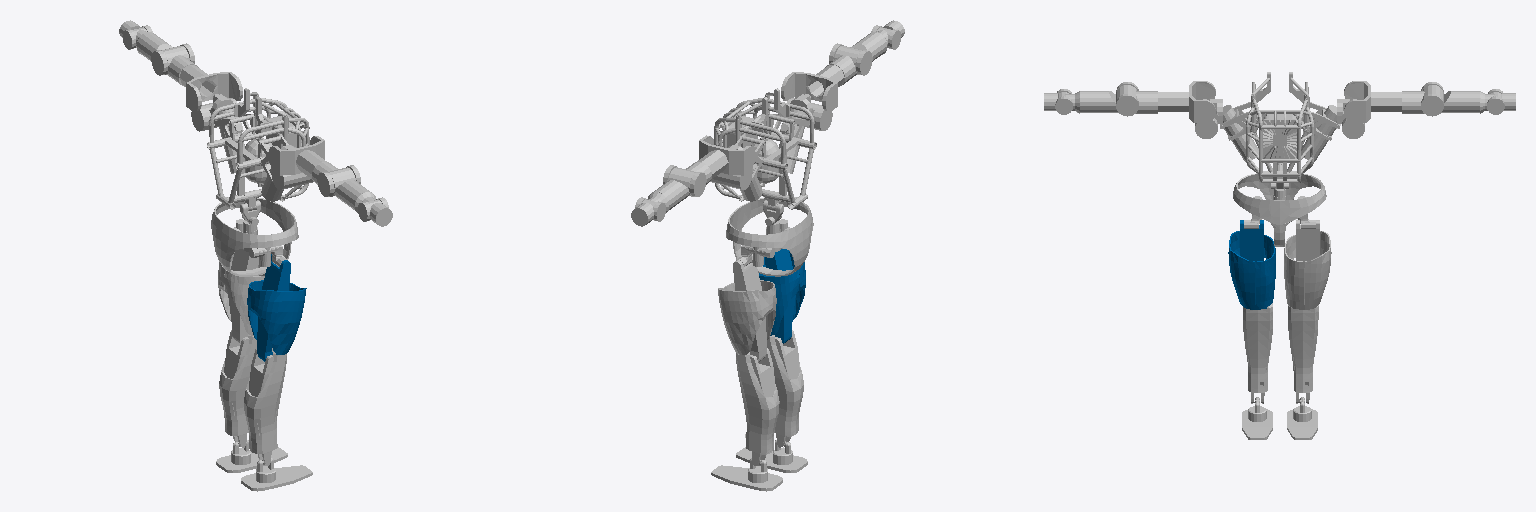
--- What the picture shows (computed from the rendered views, not written in the file) ---
Views: 3 orthographic renders of the robot side by side, from view 1: azimuth 30°, elevation 25°; view 2: azimuth 150°, elevation 25°; view 3: azimuth 270°, elevation 25°.
Robot: drc_robot — 40 links, 39 joints (28 revolute, 1 continuous, 10 fixed); root link pelvis; default pose: all joints at 0.
Links seen in each view (by area): view 1: utorso, r_uleg, r_lleg, pelvis, l_lleg, l_uleg, l_scap, r_scap, r_foot, l_larm, l_foot, r_larm (+5 smaller); view 2: utorso, l_uleg, l_lleg, pelvis, r_lleg, r_uleg, r_scap, l_scap, l_foot, r_larm, r_foot, l_larm (+5 smaller); view 3: utorso, l_uleg, r_uleg, pelvis, r_lleg, l_lleg, l_scap, r_scap, l_larm, r_larm, r_foot, l_foot (+6 smaller).
Link boxes in pixels (x1,y1,x2,y2): utorso: (207, 88, 309, 210); r_uleg: (247, 254, 306, 361); r_lleg: (244, 348, 286, 465); pelvis: (211, 198, 298, 276); l_lleg: (219, 330, 256, 447); l_uleg: (218, 249, 264, 343); l_scap: (179, 65, 242, 111); r_scap: (268, 136, 326, 179); r_foot: (241, 458, 312, 491); l_larm: (136, 32, 194, 75); l_foot: (216, 440, 287, 472); r_larm: (317, 165, 371, 209); utorso: (714, 88, 816, 210); l_uleg: (718, 254, 776, 361); l_lleg: (736, 348, 779, 465); pelvis: (726, 197, 813, 276); r_lleg: (767, 330, 803, 447); r_uleg: (759, 249, 805, 343); r_scap: (781, 65, 844, 111); l_scap: (697, 135, 755, 179); l_foot: (711, 458, 782, 491); r_larm: (829, 32, 886, 75); r_foot: (736, 440, 807, 472); l_larm: (652, 165, 706, 209); utorso: (1220, 72, 1340, 182); l_uleg: (1284, 220, 1331, 309); r_uleg: (1228, 220, 1275, 309); pelvis: (1233, 173, 1326, 246); r_lleg: (1243, 303, 1272, 403); l_lleg: (1288, 305, 1318, 403); l_scap: (1344, 81, 1401, 122); r_scap: (1158, 81, 1215, 122); l_larm: (1421, 82, 1479, 116); r_larm: (1080, 82, 1138, 116); r_foot: (1242, 397, 1272, 439); l_foot: (1287, 397, 1317, 439).
Bounding box of the posed robot: 0.3285 × 1.86 × 1.52 m (x, y, z).
28 mesh visuals loaded from 30 distinct referenced files (28 Collada DAE); not drawn: 2 (reference not matched to a file when rendering).

The robot description file, URDF, robot "drc_robot":
<?xml version="1.0" ?>
<!-- =================================================================================== -->
<!-- |    This document was autogenerated by xacro from robots/drc_robot.model.xacro   | -->
<!-- |    EDITING THIS FILE BY HAND IS NOT RECOMMENDED                                 | -->
<!-- =================================================================================== -->
<robot name="drc_robot" xmlns:controller="http://playerstage.sourceforge.net/gazebo/xmlschema/#controller" xmlns:interface="http://playerstage.sourceforge.net/gazebo/xmlschema/#interface" xmlns:sensor="http://playerstage.sourceforge.net/gazebo/xmlschema/#sensor" xmlns:xacro="http://www.ros.org/wiki/xacro">
  <link name="head">
    <inertial>
      <origin xyz="-0.075493 3.3383E-05 0.02774" rpy="0 0 0" />
      <mass value="1.4199" />
      <inertia
        iyy="0.0041178"
        ixy="-1.5797E-06"
        iyz="-6.8415E-07"
        ixx="0.0039688"
        ixz="-0.00089293"
        izz="0.0035243" />
    </inertial>
    <visual>
      <origin xyz="-0.0446 0 0.0880" rpy="0 0 1.570795" />
      <geometry>
        <mesh filename="package://multisense_sl/meshes/base_link.STL" />
      </geometry>
      <material name="">
        <color rgba="0.9098 0.44314 0.031373 1" />
      </material>
    </visual>
    <collision>
      <origin xyz="-0.0446 0 0.0880" rpy="0 0 1.570795" />
      <geometry>
        <mesh filename="package://multisense_sl/meshes/base_link.STL" />
      </geometry>
    </collision>
  </link>
  <link name="hokuyo_link">
    <inertial>
      <origin xyz="0.012428 0.0004084 -0.0041835" rpy="0 0 0" />
      <mass value="0.057664" />
      <inertia
        iyy="4.2412E-05"
        ixy="4.9927E-08"
        iyz="-9.8165E-09"
        ixx="3.7174E-05"
        ixz="1.1015E-05"
        izz="4.167E-05" />
    </inertial>
    <visual>
      <origin xyz="0 0 0" rpy="1.5707963267949 0 1.5707963267949" />
      <geometry>
        <mesh filename="package://multisense_sl/meshes/hokuyo_link.STL" />
      </geometry>
      <material name="">
        <color rgba="0.72941 0.35686 0.023529 1" />
      </material>
    </visual>
    <collision>
      <origin xyz="0 0 0" rpy="1.5707963267949 0 1.5707963267949" />
      <geometry>
        <mesh filename="package://multisense_sl/meshes/hokuyo_link.STL" />
      </geometry>
    </collision>
  </link>
  <joint name="hokuyo_joint" type="continuous">
    <origin xyz="-0.0446 0 0.0880" rpy="0 0 0" />
    <parent link="head" />
    <child link="hokuyo_link" />
    <axis xyz="1 0 0" />
    <dynamics damping="0.01" friction="0"/>
  </joint>
  <link name="l_clav">
    <inertial>
      <mass value="2.369"/>
      <origin rpy="0 -0 0" xyz="0.014 0.058 0.029"/>
      <inertia ixx="0.004" ixy="0.001" ixz="0" iyy="0.006" iyz="0" izz="0.007"/>
    </inertial>
    <visual>
      <origin rpy="0 -0 0" xyz="0 0 0"/>
      <geometry>
        <mesh filename="package://drc_robot/meshes/l_clav.dae" scale="1 1 1"/>
      </geometry>
    </visual>
    <collision>
      <origin rpy="0 -0 0" xyz="0 0 0"/>
      <geometry>
        <mesh filename="package://drc_robot/meshes/l_clav.stl" scale="1 1 1"/>
      </geometry>
    </collision>
  </link>
  <link name="l_farm">
    <inertial>
      <mass value="0.981"/>
      <origin rpy="0 -0 0" xyz="0 0.041 0"/>
      <inertia ixx="0.003" ixy="0" ixz="0" iyy="0.001" iyz="0" izz="0.003"/>
    </inertial>
    <visual>
      <origin rpy="0 -0 0" xyz="0 0 0"/>
      <geometry>
        <mesh filename="package://drc_robot/meshes/l_farm.dae" scale="1 1 1"/>
      </geometry>
    </visual>
    <collision>
      <origin rpy="0 -0 0" xyz="0 0 0"/>
      <geometry>
        <mesh filename="package://drc_robot/meshes/l_farm.stl" scale="1 1 1"/>
      </geometry>
    </collision>
  </link>
  <link name="l_foot">
    <inertial>
      <mass value="1.634"/>
      <origin rpy="0 -0 0" xyz="0.027 0 -0.067"/>
      <inertia ixx="0.002" ixy="0" ixz="0" iyy="0.007" iyz="0" izz="0.008"/>
    </inertial>
    <visual>
      <origin rpy="0 -0 0" xyz="0 0 0"/>
      <geometry>
        <mesh filename="package://drc_robot/meshes/l_foot.dae" scale="1 1 1"/>
      </geometry>
      <!--
      <origin xyz="0.048 0 -0.076119" rpy="0 0 0"/>
      <geometry>
        <box size="0.26 0.124887 0.01"/>
      </geometry>
      -->
    </visual>
    <collision>
      <origin rpy="0 -0 0" xyz="0 0 0"/>
      <geometry>
        <mesh filename="package://drc_robot/meshes/l_foot.stl" scale="1 1 1"/>
      </geometry>
      <!--
      <origin xyz="0.048 0 -0.076119" rpy="0 0 0"/>
      <geometry>
        <box size="0.26 0.124887 0.01"/>
      </geometry>
      -->
    </collision>
  </link>
  <link name="l_hand">
    <inertial>
      <mass value="2.263"/>
      <origin rpy="0 -0 0" xyz="0 0.093 0"/>
      <inertia ixx="0.01" ixy="0" ixz="0" iyy="0.002" iyz="0" izz="0.01"/>
    </inertial>
    <visual>
      <origin rpy="0 -0 0" xyz="0 0 0"/>
      <geometry>
        <mesh filename="package://drc_robot/meshes/l_hand.dae" scale="1 1 1"/>
      </geometry>
    </visual>
    <collision>
      <origin rpy="0 -0 0" xyz="0 0 0"/>
      <geometry>
        <mesh filename="package://drc_robot/meshes/l_hand.stl" scale="1 1 1"/>
      </geometry>
    </collision>
  </link>
  <link name="l_larm">
    <inertial>
      <mass value="2.148"/>
      <origin rpy="0 -0 0" xyz="-0.003 0.099 -0.014"/>
      <inertia ixx="0.005" ixy="0" ixz="0" iyy="0.003" iyz="0" izz="0.006"/>
    </inertial>
    <visual>
      <origin rpy="0 -0 0" xyz="0 0 0"/>
      <geometry>
        <mesh filename="package://drc_robot/meshes/l_larm.dae" scale="1 1 1"/>
      </geometry>
    </visual>
    <collision>
      <origin rpy="0 -0 0" xyz="0 0 0"/>
      <geometry>
        <mesh filename="package://drc_robot/meshes/l_larm.stl" scale="1 1 1"/>
      </geometry>
    </collision>
  </link>
  <link name="l_lglut">
    <inertial>
      <mass value="0.69"/>
      <origin rpy="0 -0 0" xyz="0.0133341 0.0170484 -0.0312052"/>
      <inertia ixx="0.000691326" ixy="-2.24344e-05" ixz="2.50508e-06" iyy="0.00126856" iyz="0.000137862" izz="0.00106487"/>
    </inertial>
    <visual>
      <origin rpy="0 -0 0" xyz="0 0 0"/>
      <geometry>
        <mesh filename="package://drc_robot/meshes/l_lglut.dae" scale="1 1 1"/>
      </geometry>
    </visual>
    <collision>
      <origin rpy="0 -0 0" xyz="0 0 0"/>
      <geometry>
        <mesh filename="package://drc_robot/meshes/l_lglut.stl" scale="1 1 1"/>
      </geometry>
    </collision>
  </link>
  <link name="l_lleg">
    <inertial>
      <mass value="4.367"/>
      <origin rpy="0 -0 0" xyz="0.001 0 -0.187"/>
      <inertia ixx="0.077" ixy="0" ixz="-0.003" iyy="0.076" iyz="0" izz="0.01"/>
    </inertial>
    <visual>
      <origin rpy="0 -0 0" xyz="0 0 0"/>
      <geometry>
        <mesh filename="package://drc_robot/meshes/l_lleg.dae" scale="1 1 1"/>
      </geometry>
    </visual>
    <collision>
      <origin rpy="0 -0 0" xyz="0 0 0"/>
      <geometry>
        <mesh filename="package://drc_robot/meshes/l_lleg.stl" scale="1 1 1"/>
      </geometry>
    </collision>
  </link>
  <link name="l_scap">
    <inertial>
      <mass value="2.707"/>
      <origin rpy="0 -0 0" xyz="-0.002 0.108 0"/>
      <inertia ixx="0.01" ixy="0" ixz="0" iyy="0.005" iyz="0" izz="0.013"/>
    </inertial>
    <visual>
      <origin rpy="0 -0 0" xyz="0 0 0"/>
      <geometry>
        <mesh filename="package://drc_robot/meshes/l_scap.dae" scale="1 1 1"/>
      </geometry>
    </visual>
    <collision>
      <origin rpy="0 -0 0" xyz="0 0 0"/>
      <geometry>
        <mesh filename="package://drc_robot/meshes/l_scap.stl" scale="1 1 1"/>
      </geometry>
    </collision>
  </link>
  <link name="l_talus">
    <inertial>
      <mass value="0.1"/>
      <origin rpy="0 -0 0" xyz="0 0 0"/>
      <inertia ixx="1.01674e-05" ixy="0" ixz="0" iyy="8.42775e-06" iyz="0" izz="1.30101e-05"/>
    </inertial>
    <visual>
      <origin rpy="0 -0 0" xyz="0 0 0"/>
      <geometry>
        <mesh filename="package://drc_robot/meshes/l_talus.dae" scale="1 1 1"/>
      </geometry>
    </visual>
    <collision>
      <origin rpy="0 -0 0" xyz="0 0 0"/>
      <geometry>
        <mesh filename="package://drc_robot/meshes/l_talus.stl" scale="1 1 1"/>
      </geometry>
    </collision>
  </link>
  <link name="l_uarm">
    <inertial>
      <mass value="1.881"/>
      <origin rpy="0 -0 0" xyz="0.007 0.114 0.008"/>
      <inertia ixx="0.002" ixy="0" ixz="0" iyy="0.003" iyz="0" izz="0.003"/>
    </inertial>
    <visual>
      <origin rpy="0 -0 0" xyz="0 0 0"/>
      <geometry>
        <mesh filename="package://drc_robot/meshes/l_uarm.dae" scale="1 1 1"/>
      </geometry>
    </visual>
    <collision>
      <origin rpy="0 -0 0" xyz="0 0 0"/>
      <geometry>
        <mesh filename="package://drc_robot/meshes/l_uarm.stl" scale="1 1 1"/>
      </geometry>
    </collision>
  </link>
  <link name="l_uglut">
    <inertial>
      <mass value="0.5166"/>
      <origin rpy="0 -0 0" xyz="0.00529262 -0.00344732 0.00313046"/>
      <inertia ixx="0.00074276" ixy="-3.79607e-08" ixz="-2.79549e-05" iyy="0.000688179" iyz="-3.2735e-08" izz="0.00041242"/>
    </inertial>
    <visual>
      <origin rpy="0 -0 0" xyz="0 0 0"/>
      <geometry>
        <mesh filename="package://drc_robot/meshes/l_uglut.dae" scale="1 1 1"/>
      </geometry>
    </visual>
    <collision>
      <origin rpy="0 -0 0" xyz="0 0 0"/>
      <geometry>
        <mesh filename="package://drc_robot/meshes/l_uglut.stl" scale="1 1 1"/>
      </geometry>
    </collision>
  </link>
  <link name="l_uleg">
    <inertial>
      <mass value="7.34"/>
      <origin rpy="0 -0 0" xyz="0 0 -0.21"/>
      <inertia ixx="0.09" ixy="0" ixz="0" iyy="0.09" iyz="0" izz="0.02"/>
    </inertial>
    <visual>
      <origin rpy="0 -0 0" xyz="0 0 0"/>
      <geometry>
        <mesh filename="package://drc_robot/meshes/l_uleg.dae" scale="1 1 1"/>
      </geometry>
    </visual>
    <collision>
      <origin rpy="0 -0 0" xyz="0 0 0"/>
      <geometry>
        <mesh filename="package://drc_robot/meshes/l_uleg.stl" scale="1 1 1"/>
      </geometry>
    </collision>
  </link>
  <link name="ltorso">
    <inertial>
      <mass value="1.92"/>
      <origin rpy="0 -0 0" xyz="-0.0112984 -3.15366e-06 0.0746835"/>
      <inertia ixx="0.0039092" ixy="-5.04491e-08" ixz="-0.000342157" iyy="0.00341694" iyz="4.87119e-07" izz="0.00174492"/>
    </inertial>
    <visual>
      <origin rpy="0 -0 0" xyz="0 0 0"/>
      <geometry>
        <mesh filename="package://drc_robot/meshes/ltorso.dae" scale="1 1 1"/>
      </geometry>
    </visual>
    <collision>
      <origin rpy="0 -0 0" xyz="0 0 0"/>
      <geometry>
        <mesh filename="package://drc_robot/meshes/ltorso.stl" scale="1 1 1"/>
      </geometry>
    </collision>
  </link>
  <link name="mtorso">
    <inertial>
      <mass value="0.55"/>
      <origin rpy="0 -0 0" xyz="-0.00816266 -0.0131245 0.0305974"/>
      <inertia ixx="0.000454181" ixy="-6.10764e-05" ixz="3.94009e-05" iyy="0.000483282" iyz="5.27463e-05" izz="0.000444215"/>
    </inertial>
    <visual>
      <origin rpy="0 -0 0" xyz="0 0 0"/>
      <geometry>
        <mesh filename="package://drc_robot/meshes/mtorso.dae" scale="1 1 1"/>
      </geometry>
    </visual>
    <collision>
      <origin rpy="0 -0 0" xyz="0 0 0"/>
      <geometry>
        <mesh filename="package://drc_robot/meshes/mtorso.stl" scale="1 1 1"/>
      </geometry>
    </collision>
  </link>
  <link name="pelvis">
    <inertial>
      <mass value="14.2529"/>
      <origin rpy="0 -0 0" xyz="0.0111 0 0.0271"/>
      <inertia ixx="0.1244" ixy="0.0008" ixz="-0.0007" iyy="0.0958" iyz="-0.0005" izz="0.1167"/>
    </inertial>
    <visual>
      <origin rpy="0 -0 0" xyz="0 0 0"/>
      <geometry>
        <mesh filename="package://drc_robot/meshes/pelvis.dae" scale="1 1 1"/>
      </geometry>
    </visual>
    <collision>
      <origin rpy="0 -0 0" xyz="0 0 0"/>
      <geometry>
        <mesh filename="package://drc_robot/meshes/pelvis.stl" scale="1 1 1"/>
      </geometry>
    </collision>
  </link>
  <link name="r_clav">
    <inertial>
      <mass value="2.369"/>
      <origin rpy="0 -0 0" xyz="0.014 -0.058 0.029"/>
      <inertia ixx="0.004" ixy="-0.001" ixz="0" iyy="0.006" iyz="0" izz="0.007"/>
    </inertial>
    <visual>
      <origin rpy="0 -0 0" xyz="0 0 0"/>
      <geometry>
        <mesh filename="package://drc_robot/meshes/r_clav.dae" scale="1 1 1"/>
      </geometry>
    </visual>
    <collision>
      <origin rpy="0 -0 0" xyz="0 0 0"/>
      <geometry>
        <mesh filename="package://drc_robot/meshes/r_clav.stl" scale="1 1 1"/>
      </geometry>
    </collision>
  </link>
  <link name="r_farm">
    <inertial>
      <mass value="0.981"/>
      <origin rpy="0 -0 0" xyz="0 -0.041 0"/>
      <inertia ixx="0.003" ixy="0" ixz="0" iyy="0.001" iyz="0" izz="0.003"/>
    </inertial>
    <visual>
      <origin rpy="0 -0 0" xyz="0 0 0"/>
      <geometry>
        <mesh filename="package://drc_robot/meshes/r_farm.dae" scale="1 1 1"/>
      </geometry>
    </visual>
    <collision>
      <origin rpy="0 -0 0" xyz="0 0 0"/>
      <geometry>
        <mesh filename="package://drc_robot/meshes/r_farm.stl" scale="1 1 1"/>
      </geometry>
    </collision>
  </link>
  <link name="r_foot">
    <inertial>
      <mass value="1.634"/>
      <origin rpy="0 -0 0" xyz="0.027 0 -0.067"/>
      <inertia ixx="0.002" ixy="0" ixz="0" iyy="0.007" iyz="0" izz="0.008"/>
    </inertial>
    <visual>
      <origin rpy="0 -0 0" xyz="0 0 0"/>
      <geometry>
        <mesh filename="package://drc_robot/meshes/r_foot.dae" scale="1 1 1"/>
      </geometry>
      <!--
      <origin xyz="0.048 0 -0.076119" rpy="0 0 0"/>
      <geometry>
        <box size="0.26 0.124887 0.01"/>
      </geometry>
      -->
    </visual>
    <collision>
      <origin rpy="0 -0 0" xyz="0 0 0"/>
      <geometry>
        <mesh filename="package://drc_robot/meshes/r_foot.stl" scale="1 1 1"/>
      </geometry>
      <!--
      <origin xyz="0.048 0 -0.076119" rpy="0 0 0"/>
      <geometry>
        <box size="0.26 0.124887 0.01"/>
      </geometry>
      -->
    </collision>
  </link>
  <link name="r_hand">
    <inertial>
      <mass value="2.263"/>
      <origin rpy="0 -0 0" xyz="0 -0.093 0"/>
      <inertia ixx="0.01" ixy="0" ixz="0" iyy="0.002" iyz="0" izz="0.01"/>
    </inertial>
    <visual>
      <origin rpy="0 -0 0" xyz="0 0 0"/>
      <geometry>
        <mesh filename="package://drc_robot/meshes/r_hand.dae" scale="1 1 1"/>
      </geometry>
    </visual>
    <collision>
      <origin rpy="0 -0 0" xyz="0 0 0"/>
      <geometry>
        <mesh filename="package://drc_robot/meshes/r_hand.stl" scale="1 1 1"/>
      </geometry>
    </collision>
  </link>
  <link name="r_larm">
    <inertial>
      <mass value="2.148"/>
      <origin rpy="0 -0 0" xyz="-0.003 -0.099 -0.014"/>
      <inertia ixx="0.005" ixy="0" ixz="0" iyy="0.003" iyz="0" izz="0.006"/>
    </inertial>
    <visual>
      <origin rpy="0 -0 0" xyz="0 0 0"/>
      <geometry>
        <mesh filename="package://drc_robot/meshes/r_larm.dae" scale="1 1 1"/>
      </geometry>
    </visual>
    <collision>
      <origin rpy="0 -0 0" xyz="0 0 0"/>
      <geometry>
        <mesh filename="package://drc_robot/meshes/r_larm.stl" scale="1 1 1"/>
      </geometry>
    </collision>
  </link>
  <link name="r_lglut">
    <inertial>
      <mass value="0.69"/>
      <origin rpy="0 -0 0" xyz="0.0133341 -0.0170484 -0.0312052"/>
      <inertia ixx="0.000691326" ixy="2.24344e-05" ixz="2.50508e-06" iyy="0.00126856" iyz="-0.000137862" izz="0.00106487"/>
    </inertial>
    <visual>
      <origin rpy="0 -0 0" xyz="0 0 0"/>
      <geometry>
        <mesh filename="package://drc_robot/meshes/r_lglut.dae" scale="1 1 1"/>
      </geometry>
    </visual>
    <collision>
      <origin rpy="0 -0 0" xyz="0 0 0"/>
      <geometry>
        <mesh filename="package://drc_robot/meshes/r_lglut.stl" scale="1 1 1"/>
      </geometry>
    </collision>
  </link>
  <link name="r_lleg">
    <inertial>
      <mass value="4.367"/>
      <origin rpy="0 -0 0" xyz="0.001 0 -0.187"/>
      <inertia ixx="0.077" ixy="-0" ixz="-0.003" iyy="0.076" iyz="-0" izz="0.01"/>
    </inertial>
    <visual>
      <origin rpy="0 -0 0" xyz="0 0 0"/>
      <geometry>
        <mesh filename="package://drc_robot/meshes/r_lleg.dae" scale="1 1 1"/>
      </geometry>
    </visual>
    <collision>
      <origin rpy="0 -0 0" xyz="0 0 0"/>
      <geometry>
        <mesh filename="package://drc_robot/meshes/r_lleg.stl" scale="1 1 1"/>
      </geometry>
    </collision>
  </link>
  <link name="r_scap">
    <inertial>
      <mass value="2.707"/>
      <origin rpy="0 -0 0" xyz="-0.002 -0.108 0"/>
      <inertia ixx="0.01" ixy="0" ixz="0" iyy="0.005" iyz="0" izz="0.013"/>
    </inertial>
    <visual>
      <origin rpy="0 -0 0" xyz="0 0 0"/>
      <geometry>
        <mesh filename="package://drc_robot/meshes/r_scap.dae" scale="1 1 1"/>
      </geometry>
    </visual>
    <collision>
      <origin rpy="0 -0 0" xyz="0 0 0"/>
      <geometry>
        <mesh filename="package://drc_robot/meshes/r_scap.stl" scale="1 1 1"/>
      </geometry>
    </collision>
  </link>
  <link name="r_talus">
    <inertial>
      <mass value="0.1"/>
      <origin rpy="0 -0 0" xyz="0 0 0"/>
      <inertia ixx="1.01674e-05" ixy="0" ixz="0" iyy="8.42775e-06" iyz="0" izz="1.30101e-05"/>
    </inertial>
    <visual>
      <origin rpy="0 -0 0" xyz="0 0 0"/>
      <geometry>
        <mesh filename="package://drc_robot/meshes/r_talus.dae" scale="1 1 1"/>
      </geometry>
    </visual>
    <collision>
      <origin rpy="0 -0 0" xyz="0 0 0"/>
      <geometry>
        <mesh filename="package://drc_robot/meshes/r_talus.stl" scale="1 1 1"/>
      </geometry>
    </collision>
  </link>
  <link name="r_uarm">
    <inertial>
      <mass value="1.881"/>
      <origin rpy="0 -0 0" xyz="0.007 -0.114 0.008"/>
      <inertia ixx="0.002" ixy="0" ixz="0" iyy="0.003" iyz="0" izz="0.003"/>
    </inertial>
    <visual>
      <origin rpy="0 -0 0" xyz="0 0 0"/>
      <geometry>
        <mesh filename="package://drc_robot/meshes/r_uarm.dae" scale="1 1 1"/>
      </geometry>
    </visual>
    <collision>
      <origin rpy="0 -0 0" xyz="0 0 0"/>
      <geometry>
        <mesh filename="package://drc_robot/meshes/r_uarm.stl" scale="1 1 1"/>
      </geometry>
    </collision>
  </link>
  <link name="r_uglut">
    <inertial>
      <mass value="0.5166"/>
      <origin rpy="0 -0 0" xyz="0.00529262 0.00344732 0.00313046"/>
      <inertia ixx="0.00074276" ixy="3.79607e-08" ixz="-2.79549e-05" iyy="0.000688179" iyz="3.2735e-08" izz="0.00041242"/>
    </inertial>
    <visual>
      <origin rpy="0 -0 0" xyz="0 0 0"/>
      <geometry>
        <mesh filename="package://drc_robot/meshes/r_uglut.dae" scale="1 1 1"/>
      </geometry>
    </visual>
    <collision>
      <origin rpy="0 -0 0" xyz="0 0 0"/>
      <geometry>
        <mesh filename="package://drc_robot/meshes/r_uglut.stl" scale="1 1 1"/>
      </geometry>
    </collision>
  </link>
  <link name="r_uleg">
    <inertial>
      <mass value="7.34"/>
      <origin rpy="0 -0 0" xyz="0 0 -0.21"/>
      <inertia ixx="0.09" ixy="0" ixz="0" iyy="0.09" iyz="0" izz="0.02"/>
    </inertial>
    <visual>
      <origin rpy="0 -0 0" xyz="0 0 0"/>
      <geometry>
        <mesh filename="package://drc_robot/meshes/r_uleg.dae" scale="1 1 1"/>
      </geometry>
    </visual>
    <collision>
      <origin rpy="0 -0 0" xyz="0 0 0"/>
      <geometry>
        <mesh filename="package://drc_robot/meshes/r_uleg.stl" scale="1 1 1"/>
      </geometry>
    </collision>
  </link>
  <link name="utorso">
    <inertial>
      <mass value="18.484"/>
      <origin rpy="0 -0 0" xyz="0.02 -0.001 0.211"/>
      <inertia ixx="0.395" ixy="0" ixz="0.083" iyy="1.089" iyz="-0.003" izz="0.327"/>
    </inertial>
    <visual>
      <origin rpy="0 -0 0" xyz="0 0 0"/>
      <geometry>
        <mesh filename="package://drc_robot/meshes/utorso.dae" scale="1 1 1"/>
      </geometry>
    </visual>
    <collision>
      <origin rpy="0 -0 0" xyz="0 0 0"/>
      <geometry>
        <mesh filename="package://drc_robot/meshes/utorso.stl" scale="1 1 1"/>
      </geometry>
    </collision>
  </link>
  <joint name="back_lbz" type="revolute">
    <origin rpy="0 -0 0" xyz="-0.0125 0 0"/>
    <axis xyz="0 0 1"/>
    <parent link="pelvis"/>
    <child link="ltorso"/>
    <dynamics damping="0.1" friction="0"/>
    <limit effort="124.016" lower="-0.610865" upper="0.610865" velocity="12"/>
    <safety_controller k_position="100" k_velocity="100" soft_lower_limit="-10.6109" soft_upper_limit="10.6109"/>
  </joint>
  <joint name="back_mby" type="revolute">
    <origin rpy="0 -0 0" xyz="0 0 0.09"/>
    <axis xyz="0 1 0"/>
    <parent link="ltorso"/>
    <child link="mtorso"/>
    <dynamics damping="0.1" friction="0"/>
    <limit effort="206.843" lower="-1.2" upper="1.28" velocity="12"/>
    <safety_controller k_position="100" k_velocity="100" soft_lower_limit="-11.2" soft_upper_limit="11.28"/>
  </joint>
  <joint name="back_ubx" type="revolute">
    <origin rpy="0 -0 0" xyz="0 0 0.05"/>
    <axis xyz="1 0 0"/>
    <parent link="mtorso"/>
    <child link="utorso"/>
    <dynamics damping="0.1" friction="0"/>
    <limit effort="94.91" lower="-0.790809" upper="0.790809" velocity="12"/>
    <safety_controller k_position="100" k_velocity="100" soft_lower_limit="-10.7908" soft_upper_limit="10.7908"/>
  </joint>
  <joint name="l_arm_elx" type="revolute">
    <origin rpy="0 -0 0" xyz="0 0.121 0.013"/>
    <axis xyz="1 0 0"/>
    <parent link="l_uarm"/>
    <child link="l_larm"/>
    <dynamics damping="0.1" friction="0"/>
    <limit effort="114" lower="0" upper="2.35619" velocity="12"/>
    <safety_controller k_position="100" k_velocity="100" soft_lower_limit="-10" soft_upper_limit="12.3562"/>
  </joint>
  <joint name="l_arm_ely" type="revolute">
    <origin rpy="0 -0 0" xyz="0 0.185 0"/>
    <axis xyz="0 1 0"/>
    <parent link="l_scap"/>
    <child link="l_uarm"/>
    <dynamics damping="0.1" friction="0"/>
    <limit effort="114" lower="0" upper="3.14159" velocity="12"/>
    <safety_controller k_position="100" k_velocity="100" soft_lower_limit="-10" soft_upper_limit="13.1416"/>
  </joint>
  <joint name="l_arm_mwx" type="revolute">
    <origin rpy="0 -0 0" xyz="0 0.058 0"/>
    <axis xyz="1 0 0"/>
    <parent link="l_farm"/>
    <child link="l_hand"/>
    <dynamics damping="0.1" friction="0"/>
    <limit effort="60" lower="-0.436" upper="1.571" velocity="12"/>
    <safety_controller k_position="100" k_velocity="100" soft_lower_limit="-10.436" soft_upper_limit="11.571"/>
  </joint>
  <joint name="l_arm_shx" type="revolute">
    <origin rpy="0 -0 0" xyz="0 0.075 0.036"/>
    <axis xyz="1 0 0"/>
    <parent link="l_clav"/>
    <child link="l_scap"/>
    <dynamics damping="0.1" friction="0"/>
    <limit effort="170" lower="-1.39626" upper="1.74533" velocity="12"/>
    <safety_controller k_position="100" k_velocity="100" soft_lower_limit="-11.3963" soft_upper_limit="11.7453"/>
  </joint>
  <joint name="l_arm_usy" type="revolute">
    <origin rpy="0 -0 0" xyz="0.024 0.221 0.289"/>
    <axis xyz="0 0.5 0.866025"/>
    <parent link="utorso"/>
    <child link="l_clav"/>
    <dynamics damping="0.1" friction="0"/>
    <limit effort="212" lower="-1.9635" upper="1.9635" velocity="12"/>
    <safety_controller k_position="100" k_velocity="100" soft_lower_limit="-11.9635" soft_upper_limit="11.9635"/>
  </joint>
  <joint name="l_arm_uwy" type="revolute">
    <origin rpy="0 -0 0" xyz="0 0.188 -0.013"/>
    <axis xyz="0 1 0"/>
    <parent link="l_larm"/>
    <child link="l_farm"/>
    <dynamics damping="0.1" friction="0"/>
    <limit effort="114" lower="-1.571" upper="1.571" velocity="12"/>
    <safety_controller k_position="100" k_velocity="100" soft_lower_limit="-11.571" soft_upper_limit="11.571"/>
  </joint>
  <joint name="l_leg_kny" type="revolute">
    <origin rpy="0 -0 0" xyz="-0.05 0 -0.374"/>
    <axis xyz="0 1 0"/>
    <parent link="l_uleg"/>
    <child link="l_lleg"/>
    <dynamics damping="0.1" friction="0"/>
    <limit effort="220" lower="0" upper="2.45" velocity="12"/>
    <safety_controller k_position="100" k_velocity="100" soft_lower_limit="-10" soft_upper_limit="12.45"/>
  </joint>
  <joint name="l_leg_lax" type="revolute">
    <origin rpy="0 -0 0" xyz="0 0 0"/>
    <axis xyz="1 0 0"/>
    <parent link="l_talus"/>
    <child link="l_foot"/>
    <dynamics damping="0.1" friction="0"/>
    <limit effort="90" lower="-0.436" upper="0.436" velocity="12"/>
    <safety_controller k_position="100" k_velocity="100" soft_lower_limit="-10.436" soft_upper_limit="10.436"/>
  </joint>
  <joint name="l_leg_lhy" type="revolute">
    <origin rpy="0 -0 0" xyz="0.05 0 -0.05"/>
    <axis xyz="0 1 0"/>
    <parent link="l_lglut"/>
    <child link="l_uleg"/>
    <dynamics damping="0.1" friction="0"/>
    <limit effort="260" lower="-1.75" upper="0.524" velocity="12"/>
    <safety_controller k_position="100" k_velocity="100" soft_lower_limit="-11.75" soft_upper_limit="10.524"/>
  </joint>
  <joint name="l_leg_mhx" type="revolute">
    <origin rpy="0 -0 0" xyz="0 0 0"/>
    <axis xyz="1 0 0"/>
    <parent link="l_uglut"/>
    <child link="l_lglut"/>
    <dynamics damping="0.1" friction="0"/>
    <limit effort="180" lower="-0.47" upper="0.495" velocity="12"/>
    <safety_controller k_position="100" k_velocity="100" soft_lower_limit="-10.47" soft_upper_limit="10.495"/>
  </joint>
  <joint name="l_leg_uay" type="revolute">
    <origin rpy="0 -0 0" xyz="0 0 -0.422"/>
    <axis xyz="0 1 0"/>
    <parent link="l_lleg"/>
    <child link="l_talus"/>
    <dynamics damping="0.1" friction="0"/>
    <limit effort="220" lower="-0.698" upper="0.698" velocity="12"/>
    <safety_controller k_position="100" k_velocity="100" soft_lower_limit="-10.698" soft_upper_limit="10.698"/>
  </joint>
  <joint name="l_leg_uhz" type="revolute">
    <origin rpy="0 -0 0" xyz="0 0.089 0"/>
    <axis xyz="0 0 1"/>
    <parent link="pelvis"/>
    <child link="l_uglut"/>
    <dynamics damping="0.1" friction="0"/>
    <limit effort="110" lower="-0.32" upper="1.14" velocity="12"/>
    <safety_controller k_position="100" k_velocity="100" soft_lower_limit="-10.32" soft_upper_limit="11.14"/>
  </joint>
  <joint name="neck_ay" type="revolute">
    <origin rpy="0 0 0" xyz="0.16555 0 0.50823"/>
    <axis xyz="0 1 0"/>
    <parent link="utorso"/>
    <child link="head"/>
    <dynamics damping="0.1" friction="0"/>
    <!-- per slides on sensor head kinematics 2012-12-14 -->
    <limit effort="5" lower="-0.610865238" upper="1.13446401" velocity="12"/>
    <safety_controller k_position="100" k_velocity="100" soft_lower_limit="-10.610865238" soft_upper_limit="11.13446401"/>
  </joint>
  <joint name="r_arm_elx" type="revolute">
    <origin rpy="0 -0 0" xyz="0 -0.121 0.013"/>
    <axis xyz="1 0 0"/>
    <parent link="r_uarm"/>
    <child link="r_larm"/>
    <dynamics damping="0.1" friction="0"/>
    <limit effort="114" lower="-2.35619" upper="0" velocity="12"/>
    <safety_controller k_position="100" k_velocity="100" soft_lower_limit="-12.3562" soft_upper_limit="10"/>
  </joint>
  <joint name="r_arm_ely" type="revolute">
    <origin rpy="0 -0 0" xyz="0 -0.185 0"/>
    <axis xyz="0 1 0"/>
    <parent link="r_scap"/>
    <child link="r_uarm"/>
    <dynamics damping="0.1" friction="0"/>
    <limit effort="114" lower="0" upper="3.14159" velocity="12"/>
    <safety_controller k_position="100" k_velocity="100" soft_lower_limit="-10" soft_upper_limit="13.1416"/>
  </joint>
  <joint name="r_arm_mwx" type="revolute">
    <origin rpy="0 -0 0" xyz="0 -0.058 0"/>
    <axis xyz="1 0 0"/>
    <parent link="r_farm"/>
    <child link="r_hand"/>
    <dynamics damping="0.1" friction="0"/>
    <limit effort="60" lower="-1.571" upper="0.436" velocity="12"/>
    <safety_controller k_position="100" k_velocity="100" soft_lower_limit="-11.571" soft_upper_limit="10.436"/>
  </joint>
  <joint name="r_arm_shx" type="revolute">
    <origin rpy="0 -0 0" xyz="0 -0.075 0.036"/>
    <axis xyz="1 0 0"/>
    <parent link="r_clav"/>
    <child link="r_scap"/>
    <dynamics damping="0.1" friction="0"/>
    <limit effort="170" lower="-1.74533" upper="1.39626" velocity="12"/>
    <safety_controller k_position="100" k_velocity="100" soft_lower_limit="-11.7453" soft_upper_limit="11.3963"/>
  </joint>
  <joint name="r_arm_usy" type="revolute">
    <origin rpy="0 -0 0" xyz="0.024 -0.221 0.289"/>
    <axis xyz="0 -0.5 0.866025"/>
    <parent link="utorso"/>
    <child link="r_clav"/>
    <dynamics damping="0.1" friction="0"/>
    <limit effort="212" lower="-1.9635" upper="1.9635" velocity="12"/>
    <safety_controller k_position="100" k_velocity="100" soft_lower_limit="-11.9635" soft_upper_limit="11.9635"/>
  </joint>
  <joint name="r_arm_uwy" type="revolute">
    <origin rpy="0 -0 0" xyz="0 -0.188 -0.013"/>
    <axis xyz="0 1 0"/>
    <parent link="r_larm"/>
    <child link="r_farm"/>
    <dynamics damping="0.1" friction="0"/>
    <limit effort="114" lower="-1.571" upper="1.571" velocity="12"/>
    <safety_controller k_position="100" k_velocity="100" soft_lower_limit="-11.571" soft_upper_limit="11.571"/>
  </joint>
  <joint name="r_leg_kny" type="revolute">
    <origin rpy="0 -0 0" xyz="-0.05 0 -0.374"/>
    <axis xyz="0 1 0"/>
    <parent link="r_uleg"/>
    <child link="r_lleg"/>
    <dynamics damping="0.1" friction="0"/>
    <limit effort="220" lower="0" upper="2.45" velocity="12"/>
    <safety_controller k_position="100" k_velocity="100" soft_lower_limit="-10" soft_upper_limit="12.45"/>
  </joint>
  <joint name="r_leg_lax" type="revolute">
    <origin rpy="0 -0 0" xyz="0 0 0"/>
    <axis xyz="1 0 0"/>
    <parent link="r_talus"/>
    <child link="r_foot"/>
    <dynamics damping="0.1" friction="0"/>
    <limit effort="90" lower="-0.436" upper="0.436" velocity="12"/>
    <safety_controller k_position="100" k_velocity="100" soft_lower_limit="-10.436" soft_upper_limit="10.436"/>
  </joint>
  <joint name="r_leg_lhy" type="revolute">
    <origin rpy="0 -0 0" xyz="0.05 0 -0.05"/>
    <axis xyz="0 1 0"/>
    <parent link="r_lglut"/>
    <child link="r_uleg"/>
    <dynamics damping="0.1" friction="0"/>
    <limit effort="260" lower="-1.745" upper="0.524" velocity="12"/>
    <safety_controller k_position="100" k_velocity="100" soft_lower_limit="-11.745" soft_upper_limit="10.524"/>
  </joint>
  <joint name="r_leg_mhx" type="revolute">
    <origin rpy="0 -0 0" xyz="0 0 0"/>
    <axis xyz="1 0 0"/>
    <parent link="r_uglut"/>
    <child link="r_lglut"/>
    <dynamics damping="0.1" friction="0"/>
    <limit effort="180" lower="-0.495" upper="0.47" velocity="12"/>
    <safety_controller k_position="100" k_velocity="100" soft_lower_limit="-10.495" soft_upper_limit="10.47"/>
  </joint>
  <joint name="r_leg_uay" type="revolute">
    <origin rpy="0 -0 0" xyz="0 0 -0.422"/>
    <axis xyz="0 1 0"/>
    <parent link="r_lleg"/>
    <child link="r_talus"/>
    <dynamics damping="0.1" friction="0"/>
    <limit effort="220" lower="-0.698" upper="0.698" velocity="12"/>
    <safety_controller k_position="100" k_velocity="100" soft_lower_limit="-10.698" soft_upper_limit="10.698"/>
  </joint>
  <joint name="r_leg_uhz" type="revolute">
    <origin rpy="0 -0 0" xyz="0 -0.089 0"/>
    <axis xyz="0 0 1"/>
    <parent link="pelvis"/>
    <child link="r_uglut"/>
    <dynamics damping="0.1" friction="0"/>
    <limit effort="260" lower="-1.14" upper="0.32" velocity="12"/>
    <safety_controller k_position="100" k_velocity="100" soft_lower_limit="-11.14" soft_upper_limit="10.32"/>
  </joint>
  <gazebo>
    <!-- robot model offset -->
    <pose>0 0 0.93 0 0 0</pose>
  </gazebo>
  <gazebo>
    <plugin filename="libMultiSenseSLPlugin.so" name="multisense_plugin" />
    <plugin filename="libDRCRobotPlugin.so" name="drc_robot_plugin"/>
    <plugin filename="libgazebo_ros_joint_trajectory.so" name="joint_trajectory_plugin">
      <topicName>joint_trajectory</topicName>
      <updateRate>1000.0</updateRate>
    </plugin>
    <plugin filename="libgazebo_ros_controller_manager.so" name="gazebo_ros_controller_manager">
      <alwaysOn>true</alwaysOn>
      <updateRate>1000.0</updateRate>
    </plugin>
  </gazebo>
  <link name="imu_link">
    <inertial>
      <mass value="0.1"/>
      <origin xyz="0 0 0"/>
      <inertia ixx="0.001" ixy="0" ixz="0" iyy="0.001" iyz="0" izz="0.001"/>
    </inertial>
    <collision>
      <origin rpy="0 0 0" xyz="0 0 0"/>
      <geometry>
        <box size="0.01 0.01 0.01"/>
      </geometry>
    </collision>
    <visual>
      <origin rpy="0 0 0" xyz="0 0 0"/>
      <geometry>
        <box size="0.01 0.01 0.01"/>
      </geometry>
    </visual>
  </link>
  <joint name="imu_joint" type="fixed">
    <parent link="pelvis"/>
    <child link="imu_link"/>
    <origin rpy="0.05991527603 0 -0.01415" xyz="0 0 0"/>
  </joint>
  <gazebo>
    <plugin filename="libgazebo_ros_imu.so" name="drc_robot_imu">
      <alwaysOn>true</alwaysOn>
      <updateRate>100.0</updateRate>
      <bodyName>imu_link</bodyName>
      <topicName>imu</topicName>
      <gaussianNoise>0.0</gaussianNoise>
      <xyzOffsets>0 0 0</xyzOffsets>
      <rpyOffsets>0 0 0</rpyOffsets>
    </plugin>
  </gazebo>
  <gazebo reference="r_foot">
    <mu1>10.0</mu1>
    <mu2>10.0</mu2>
    <fdir1>1 0 0</fdir1>
    <maxVel>0.0</maxVel>
    <minDepth>0.001</minDepth>
  </gazebo>
  <gazebo reference="l_foot">
    <mu1>10.0</mu1>
    <mu2>10.0</mu2>
    <fdir1>1 0 0</fdir1>
    <maxVel>0.0</maxVel>
    <minDepth>0.001</minDepth>
  </gazebo>
  <gazebo>
    <plugin filename="libgazebo_ros_p3d.so" name="gazebo_ros_p3d">
      <bodyName>pelvis</bodyName>
      <topicName>/ground_truth_odom</topicName>
      <alwaysOn>true</alwaysOn>
      <updateRate>100.0</updateRate>
    </plugin>
  </gazebo>
  <transmission name="head_hokuyo_trans" type="pr2_mechanism_model/SimpleTransmission">
    <joint name="hokuyo_joint"/>
    <actuator name="hokuyo_motor"/>
    <mechanicalReduction>1</mechanicalReduction>
  </transmission>
  <transmission name="back_lbz_trans" type="pr2_mechanism_model/SimpleTransmission">
    <joint name="back_lbz"/>
    <actuator name="back_lbz_motor"/>
    <mechanicalReduction>1</mechanicalReduction>
  </transmission>
  <transmission name="back_mby_trans" type="pr2_mechanism_model/SimpleTransmission">
    <actuator name="back_mby_motor"/>
    <joint name="back_mby"/>
    <mechanicalReduction>1</mechanicalReduction>
  </transmission>
  <transmission name="back_ubx_trans" type="pr2_mechanism_model/SimpleTransmission">
    <actuator name="back_ubx_motor"/>
    <joint name="back_ubx"/>
    <mechanicalReduction>1</mechanicalReduction>
  </transmission>
  <transmission name="l_arm_elx_trans" type="pr2_mechanism_model/SimpleTransmission">
    <actuator name="l_arm_elx_motor"/>
    <joint name="l_arm_elx"/>
    <mechanicalReduction>1</mechanicalReduction>
  </transmission>
  <transmission name="l_arm_ely_trans" type="pr2_mechanism_model/SimpleTransmission">
    <actuator name="l_arm_ely_motor"/>
    <joint name="l_arm_ely"/>
    <mechanicalReduction>1</mechanicalReduction>
  </transmission>
  <transmission name="l_arm_mwx_trans" type="pr2_mechanism_model/SimpleTransmission">
    <actuator name="l_arm_mwx_motor"/>
    <joint name="l_arm_mwx"/>
    <mechanicalReduction>1</mechanicalReduction>
  </transmission>
  <transmission name="l_arm_shx_trans" type="pr2_mechanism_model/SimpleTransmission">
    <actuator name="l_arm_shx_motor"/>
    <joint name="l_arm_shx"/>
    <mechanicalReduction>1</mechanicalReduction>
  </transmission>
  <transmission name="l_arm_usy_trans" type="pr2_mechanism_model/SimpleTransmission">
    <actuator name="l_arm_usy_motor"/>
    <joint name="l_arm_usy"/>
    <mechanicalReduction>1</mechanicalReduction>
  </transmission>
  <transmission name="l_arm_uwy_trans" type="pr2_mechanism_model/SimpleTransmission">
    <actuator name="l_arm_uwy_motor"/>
    <joint name="l_arm_uwy"/>
    <mechanicalReduction>1</mechanicalReduction>
  </transmission>
  <transmission name="l_leg_kny_trans" type="pr2_mechanism_model/SimpleTransmission">
    <actuator name="l_leg_kny_motor"/>
    <joint name="l_leg_kny"/>
    <mechanicalReduction>1</mechanicalReduction>
  </transmission>
  <transmission name="l_leg_lax_trans" type="pr2_mechanism_model/SimpleTransmission">
    <actuator name="l_leg_lax_motor"/>
    <joint name="l_leg_lax"/>
    <mechanicalReduction>1</mechanicalReduction>
  </transmission>
  <transmission name="l_leg_lhy_trans" type="pr2_mechanism_model/SimpleTransmission">
    <actuator name="l_leg_lhy_motor"/>
    <joint name="l_leg_lhy"/>
    <mechanicalReduction>1</mechanicalReduction>
  </transmission>
  <transmission name="l_leg_mhx_trans" type="pr2_mechanism_model/SimpleTransmission">
    <actuator name="l_leg_mhx_motor"/>
    <joint name="l_leg_mhx"/>
    <mechanicalReduction>1</mechanicalReduction>
  </transmission>
  <transmission name="l_leg_uay_trans" type="pr2_mechanism_model/SimpleTransmission">
    <actuator name="l_leg_uay_motor"/>
    <joint name="l_leg_uay"/>
    <mechanicalReduction>1</mechanicalReduction>
  </transmission>
  <transmission name="l_leg_uhz_trans" type="pr2_mechanism_model/SimpleTransmission">
    <actuator name="l_leg_uhz_motor"/>
    <joint name="l_leg_uhz"/>
    <mechanicalReduction>1</mechanicalReduction>
  </transmission>
  <transmission name="neck_ay_trans" type="pr2_mechanism_model/SimpleTransmission">
    <actuator name="neck_ay_motor"/>
    <joint name="neck_ay"/>
    <mechanicalReduction>1</mechanicalReduction>
  </transmission>
  <transmission name="r_arm_elx_trans" type="pr2_mechanism_model/SimpleTransmission">
    <actuator name="r_arm_elx_motor"/>
    <joint name="r_arm_elx"/>
    <mechanicalReduction>1</mechanicalReduction>
  </transmission>
  <transmission name="r_arm_ely_trans" type="pr2_mechanism_model/SimpleTransmission">
    <actuator name="r_arm_ely_motor"/>
    <joint name="r_arm_ely"/>
    <mechanicalReduction>1</mechanicalReduction>
  </transmission>
  <transmission name="r_arm_mwx_trans" type="pr2_mechanism_model/SimpleTransmission">
    <actuator name="r_arm_mwx_motor"/>
    <joint name="r_arm_mwx"/>
    <mechanicalReduction>1</mechanicalReduction>
  </transmission>
  <transmission name="r_arm_shx_trans" type="pr2_mechanism_model/SimpleTransmission">
    <actuator name="r_arm_shx_motor"/>
    <joint name="r_arm_shx"/>
    <mechanicalReduction>1</mechanicalReduction>
  </transmission>
  <transmission name="r_arm_usy_trans" type="pr2_mechanism_model/SimpleTransmission">
    <actuator name="r_arm_usy_motor"/>
    <joint name="r_arm_usy"/>
    <mechanicalReduction>1</mechanicalReduction>
  </transmission>
  <transmission name="r_arm_uwy_trans" type="pr2_mechanism_model/SimpleTransmission">
    <actuator name="r_arm_uwy_motor"/>
    <joint name="r_arm_uwy"/>
    <mechanicalReduction>1</mechanicalReduction>
  </transmission>
  <transmission name="r_leg_kny_trans" type="pr2_mechanism_model/SimpleTransmission">
    <actuator name="r_leg_kny_motor"/>
    <joint name="r_leg_kny"/>
    <mechanicalReduction>1</mechanicalReduction>
  </transmission>
  <transmission name="r_leg_lax_trans" type="pr2_mechanism_model/SimpleTransmission">
    <actuator name="r_leg_lax_motor"/>
    <joint name="r_leg_lax"/>
    <mechanicalReduction>1</mechanicalReduction>
  </transmission>
  <transmission name="r_leg_lhy_trans" type="pr2_mechanism_model/SimpleTransmission">
    <actuator name="r_leg_lhy_motor"/>
    <joint name="r_leg_lhy"/>
    <mechanicalReduction>1</mechanicalReduction>
  </transmission>
  <transmission name="r_leg_mhx_trans" type="pr2_mechanism_model/SimpleTransmission">
    <actuator name="r_leg_mhx_motor"/>
    <joint name="r_leg_mhx"/>
    <mechanicalReduction>1</mechanicalReduction>
  </transmission>
  <transmission name="r_leg_uay_trans" type="pr2_mechanism_model/SimpleTransmission">
    <actuator name="r_leg_uay_motor"/>
    <joint name="r_leg_uay"/>
    <mechanicalReduction>1</mechanicalReduction>
  </transmission>
  <transmission name="r_leg_uhz_trans" type="pr2_mechanism_model/SimpleTransmission">
    <actuator name="r_leg_uhz_motor"/>
    <joint name="r_leg_uhz"/>
    <mechanicalReduction>1</mechanicalReduction>
  </transmission>
  <joint name="head_hokuyo_joint" type="fixed">
    <axis xyz="0 1 0"/>
    <origin rpy="0 0 0" xyz="0.03 0 0.015"/>
    <parent link="hokuyo_link"/>
    <child link="head_hokuyo"/>
  </joint>
  <link name="head_hokuyo" type="laser">
    <inertial>
      <mass value="0.01"/>
      <origin rpy="0 0 0" xyz="0 0 0"/>
      <inertia ixx="0.00001" ixy="0" ixz="0" iyy="0.00001" iyz="0" izz="0.00001"/>
    </inertial>
  </link>
  <gazebo reference="head_hokuyo">
    <sensor name="head_hokuyo_sensor" type="ray">
      <pose>0 0 0 0 0 0</pose>
      <visualize>false</visualize>
      <update_rate>40</update_rate>
      <ray>
        <scan>
          <horizontal>
            <samples>640</samples>
            <resolution>1</resolution>
            <min_angle>-1.57</min_angle>
            <max_angle>1.57</max_angle>
          </horizontal>
        </scan>
        <range>
          <min>0.08</min>
          <max>10.0</max>
          <resolution>0.01</resolution>
        </range>
      </ray>
      <plugin filename="libgazebo_ros_laser.so" name="gazebo_ros_head_hokuyo_controller">
        <gaussianNoise>0.005</gaussianNoise>
        <alwaysOn>true</alwaysOn>
        <updateRate>40</updateRate>
        <topicName>/scan</topicName>
        <frameName>head_hokuyo</frameName>
      </plugin>
    </sensor>
  </gazebo>
  <joint name="left_camera_frame_joint" type="fixed">
    <!-- optical frame collocated with tilting DOF -->
    <origin xyz="0.0 0.035 -0.002"/>
    <parent link="head"/>
    <child link="left_camera_frame"/>
  </joint>
  <link name="left_camera_frame">
    <inertial>
      <mass value="0.1"/>
      <origin xyz="0 0 0"/>
      <inertia ixx="0.001" ixy="0.0" ixz="0.0" iyy="0.001" iyz="0.0" izz="0.001"/>
    </inertial>
  </link>
  <joint name="left_camera_optical_frame_joint" type="fixed">
    <origin rpy="-1.5708 0.0 -1.5708" xyz="0 0 0"/>
    <parent link="left_camera_frame"/>
    <child link="left_camera_optical_frame"/>
  </joint>
  <link name="left_camera_optical_frame"/>
  <gazebo reference="left_camera_frame">
    <sensor name="left_camera_sensor" type="camera">
      <!-- update rate based on spec sheet for 2mp 15fps -->
      <update_rate>15.0</update_rate>
      <camera>
        <!-- hfov based on spec sheet, 80 degrees X 45 degrees -->
        <!-- for resolution of 2048 x 1088, we have non-unity aspect ratio -->
        <!-- but gazebo will violate the vertical fov for now to keep aspect ratio of 1 -->
        <horizontal_fov>1.3962634</horizontal_fov>
        <image>
          <width>2048</width>
          <height>1088</height>
          <format>R8G8B8</format>
        </image>
        <clip>
          <near>0.01</near>
          <far>100</far>
        </clip>
      </camera>
      <plugin filename="libgazebo_ros_camera.so" name="left_camera_controller">
        <alwaysOn>true</alwaysOn>
        <!-- update rate based on spec sheet for 2mp 15fps -->
        <updateRate>15.0</updateRate>
        <cameraName>multisense_sl/left</cameraName>
        <imageTopicName>image_raw</imageTopicName>
        <cameraInfoTopicName>camera_info</cameraInfoTopicName>
        <frameName>left_camera_optical_frame</frameName>
        <hackBaseline>0.0</hackBaseline>
        <distortionK1>0.0</distortionK1>
        <distortionK2>0.0</distortionK2>
        <distortionK3>0.0</distortionK3>
        <distortionT1>0.0</distortionT1>
        <distortionT2>0.0</distortionT2>
      </plugin>
    </sensor>
  </gazebo>
  <joint name="right_camera_frame_joint" type="fixed">
    <origin xyz="0.0 -0.035 -0.002"/>
    <parent link="head"/>
    <child link="right_camera_frame"/>
  </joint>
  <link name="right_camera_frame">
    <inertial>
      <mass value="0.1"/>
      <origin xyz="0 0 0"/>
      <inertia ixx="0.001" ixy="0.0" ixz="0.0" iyy="0.001" iyz="0.0" izz="0.001"/>
    </inertial>
  </link>
  <joint name="right_camera_optical_frame_joint" type="fixed">
    <origin rpy="-1.5708 0.0 -1.5708" xyz="0 0 0"/>
    <parent link="right_camera_frame"/>
    <child link="right_camera_optical_frame"/>
  </joint>
  <link name="right_camera_optical_frame"/>
  <gazebo reference="right_camera_frame">
    <sensor name="right_camera_sensor" type="camera">
      <!-- update rate based on spec sheet for 2mp 15fps -->
      <update_rate>15.0</update_rate>
      <camera>
        <!-- hfov based on spec sheet, 80 degrees X 45 degrees -->
        <!-- for resolution of 2048 x 1088, we have non-unity aspect ratio -->
        <!-- but gazebo will violate the vertical fov for now to keep aspect ratio of 1 -->
        <horizontal_fov>1.3962634</horizontal_fov>
        <image>
          <width>2048</width>
          <height>1088</height>
          <format>R8G8B8</format>
        </image>
        <clip>
          <near>0.01</near>
          <far>100</far>
        </clip>
      </camera>
      <plugin filename="libgazebo_ros_camera.so" name="right_camera_controller">
        <alwaysOn>true</alwaysOn>
        <!-- update rate based on spec sheet for 2mp 15fps -->
        <updateRate>15.0</updateRate>
        <cameraName>multisense_sl/right</cameraName>
        <imageTopicName>image_raw</imageTopicName>
        <cameraInfoTopicName>camera_info</cameraInfoTopicName>
        <frameName>left_camera_optical_frame</frameName>
        <hackBaseline>0.07</hackBaseline>
        <!-- check this -->
        <distortionK1>0.0</distortionK1>
        <distortionK2>0.0</distortionK2>
        <distortionK3>0.0</distortionK3>
        <distortionT1>0.0</distortionT1>
        <distortionT2>0.0</distortionT2>
      </plugin>
    </sensor>
  </gazebo>

  <!-- leds -->
  <joint name="center_top_led_frame_joint" type="fixed">
    <origin xyz="0.01125 0.0 0.0105"/>
    <parent link="head"/>
    <child link="center_top_led_frame"/>
  </joint>
  <link name="center_top_led_frame">
    <inertial>
      <mass value="0.1"/>
      <origin xyz="0 0 0"/>
      <inertia ixx="0.001" ixy="0.0" ixz="0.0" iyy="0.001" iyz="0.0" izz="0.001"/>
    </inertial>
  </link>
  <joint name="center_bottom_led_frame_joint" type="fixed">
    <origin xyz="0.01125 0.0 -0.0155"/>
    <parent link="head"/>
    <child link="center_bottom_led_frame"/>
  </joint>
  <link name="center_bottom_led_frame">
    <inertial>
      <mass value="0.1"/>
      <origin xyz="0 0 0"/>
      <inertia ixx="0.001" ixy="0.0" ixz="0.0" iyy="0.001" iyz="0.0" izz="0.001"/>
    </inertial>
  </link>
  <joint name="left_led_frame_joint" type="fixed">
    <origin xyz="-0.01443 0.07452 0.050346" rpy="0 -0.15 0.53"/>
    <parent link="head"/>
    <child link="left_led_frame"/>
  </joint>
  <link name="left_led_frame">
    <inertial>
      <mass value="0.1"/>
      <origin xyz="0 0 0"/>
      <inertia ixx="0.001" ixy="0.0" ixz="0.0" iyy="0.001" iyz="0.0" izz="0.001"/>
    </inertial>
  </link>
  <joint name="right_led_frame_joint" type="fixed">
    <origin xyz="-0.01443 -0.07452 0.050346" rpy="0 -0.15 -0.53"/>
    <parent link="head"/>
    <child link="right_led_frame"/>
  </joint>
  <link name="right_led_frame">
    <inertial>
      <mass value="0.1"/>
      <origin xyz="0 0 0"/>
      <inertia ixx="0.001" ixy="0.0" ixz="0.0" iyy="0.001" iyz="0.0" izz="0.001"/>
    </inertial>
  </link>
</robot>
